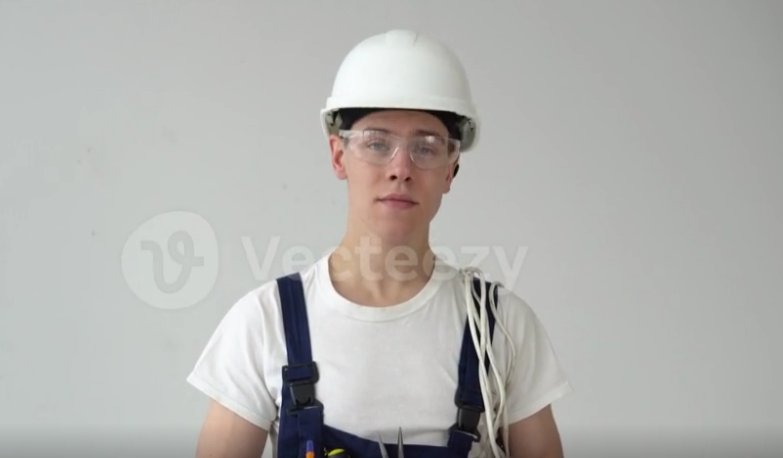safety_helmet: (320, 27, 481, 152)
